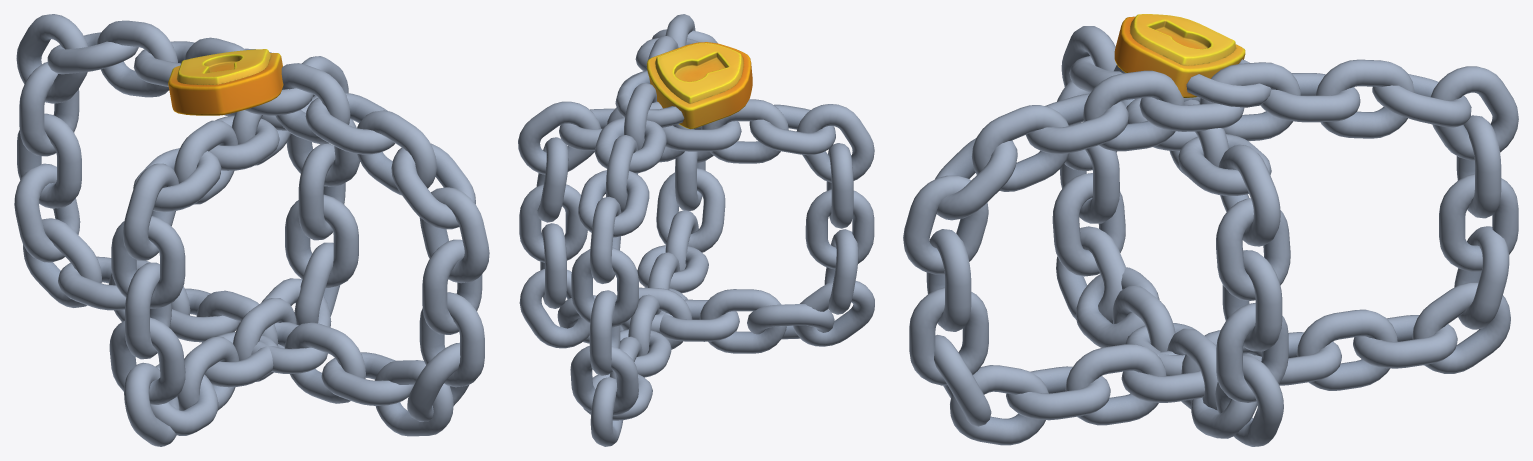
Rendered from Chain_Block_02.fbx.
3 renders of one model, left to right at view 1: azimuth 30°, elevation 25°; view 2: azimuth 150°, elevation 25°; view 3: azimuth 270°, elevation 25°, orthographic. The views are drawn at different scales.
Visible parts, largest first — view 1: Chain; view 2: Chain; view 3: Chain.
Part boxes in pixels (x1,y1,x2,y2): Chain: (14,14,489,446); Chain: (518,14,874,446); Chain: (903,14,1518,446).
Size of the model in its own units: 1.54 by 1.63 by 2.48.
1 material, 1 textured.
